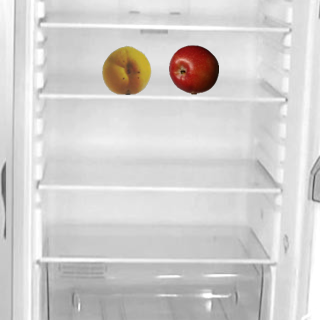Apple Braeburn: (168, 44, 218, 94)
Peach 2: (101, 44, 151, 94)
